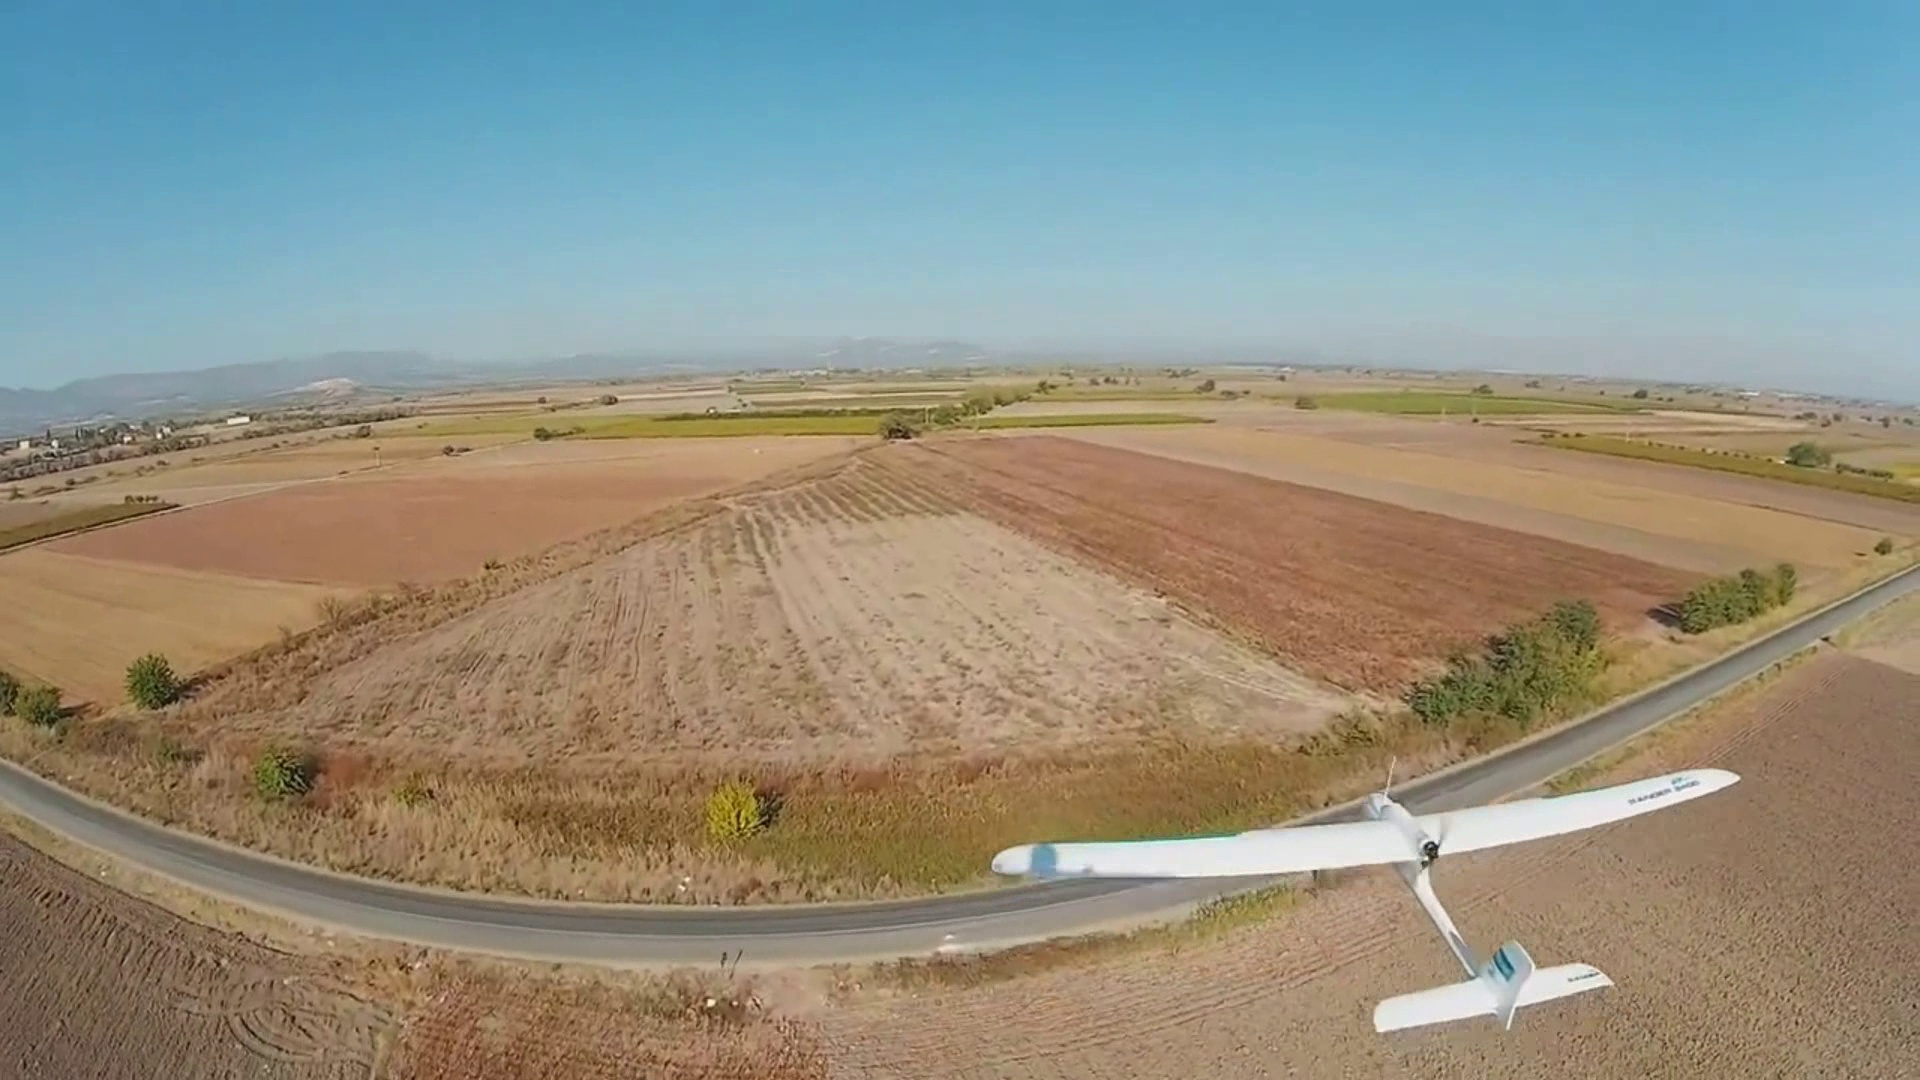airplane: (986, 555, 1918, 1029)
